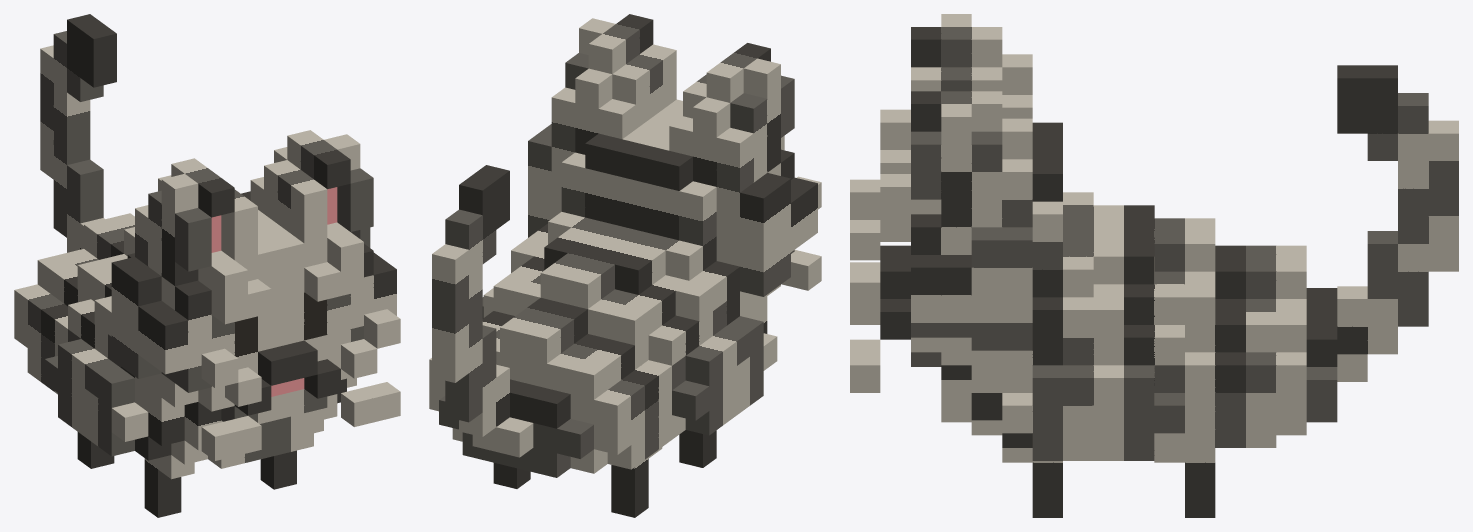
Rendered from skin_stripe.fbx.
The picture shows the model from 3 angles, left to right: view 1: azimuth 30°, elevation 25°; view 2: azimuth 150°, elevation 25°; view 3: azimuth 270°, elevation 25°; orthographic projection. The views are drawn at different scales.
Parts seen in each view (by area): view 1: skin_7-5, skin_7-0, skin_7-4, skin_7-2, skin_7-3; view 2: skin_7-5, skin_7-0, skin_7-3, skin_7-4, skin_7-1; view 3: skin_7-5, skin_7-0, skin_7-1, skin_7-2.
Boxes of the visible parts, x1,y1,x2,y2 form: skin_7-5: (14, 130, 400, 468); skin_7-0: (40, 14, 116, 252); skin_7-4: (144, 455, 194, 517); skin_7-2: (260, 450, 296, 489); skin_7-3: (77, 432, 114, 468); skin_7-5: (429, 14, 821, 477); skin_7-0: (432, 165, 509, 436); skin_7-3: (611, 447, 662, 517); skin_7-4: (679, 430, 716, 467); skin_7-1: (493, 463, 530, 488); skin_7-5: (850, 14, 1367, 460); skin_7-0: (1337, 65, 1458, 354); skin_7-1: (1154, 448, 1215, 517); skin_7-2: (1002, 448, 1062, 517).
Size of the model in its own units: 100 by 150 by 200.
1 material, 1 textured.
